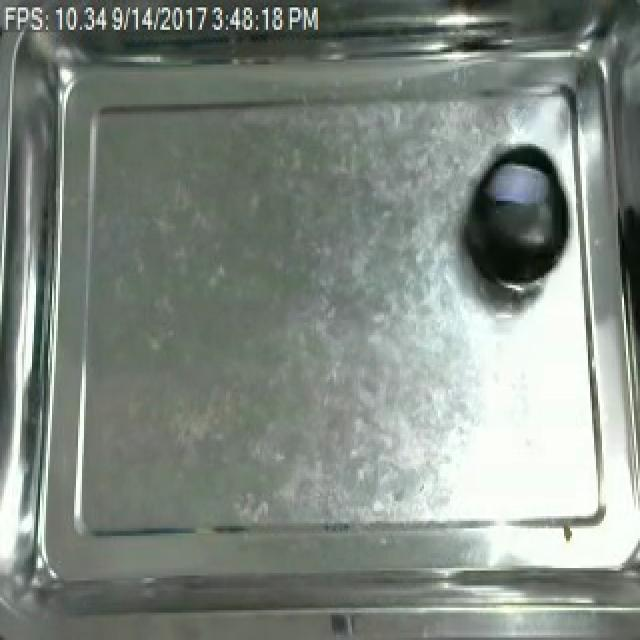Fruit: (458, 151, 572, 293)
